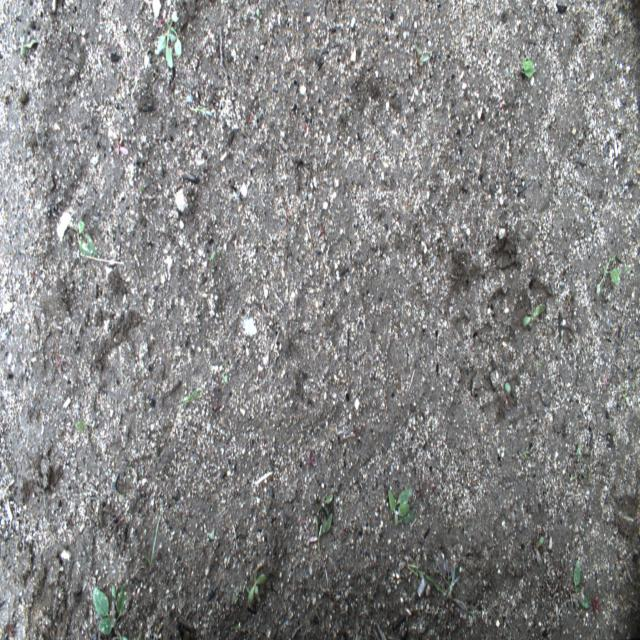weed: (406, 564, 477, 616), (92, 544, 125, 639), (596, 248, 632, 305), (386, 485, 420, 527), (156, 16, 182, 69), (70, 217, 103, 258), (313, 491, 333, 547), (141, 513, 161, 568), (242, 562, 267, 605), (570, 442, 592, 480), (617, 367, 631, 425), (570, 564, 588, 609), (19, 22, 38, 64), (521, 302, 548, 330), (536, 520, 555, 550), (516, 55, 538, 80), (183, 385, 203, 404), (536, 554, 546, 578), (209, 247, 221, 266), (532, 359, 544, 377), (74, 422, 86, 434), (504, 379, 512, 396), (233, 588, 240, 607), (116, 631, 130, 640), (190, 111, 212, 116), (135, 629, 144, 639), (207, 529, 214, 541), (222, 371, 228, 385), (182, 630, 192, 638), (256, 6, 260, 25)
